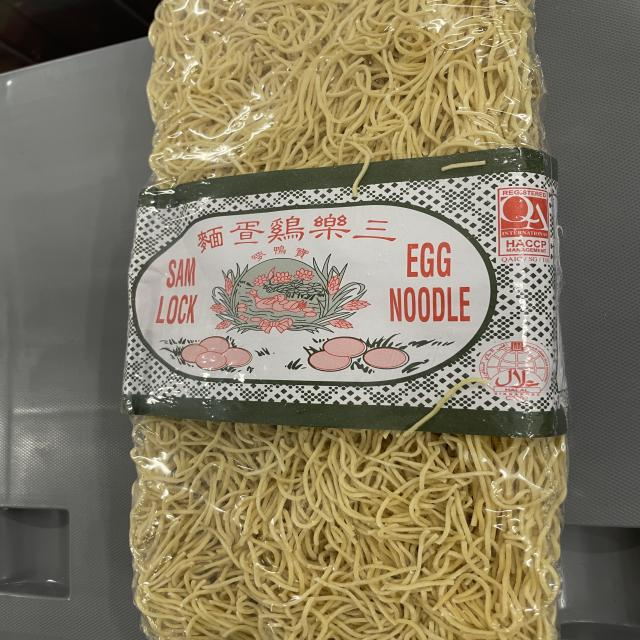object_name: (164, 5, 542, 640)
